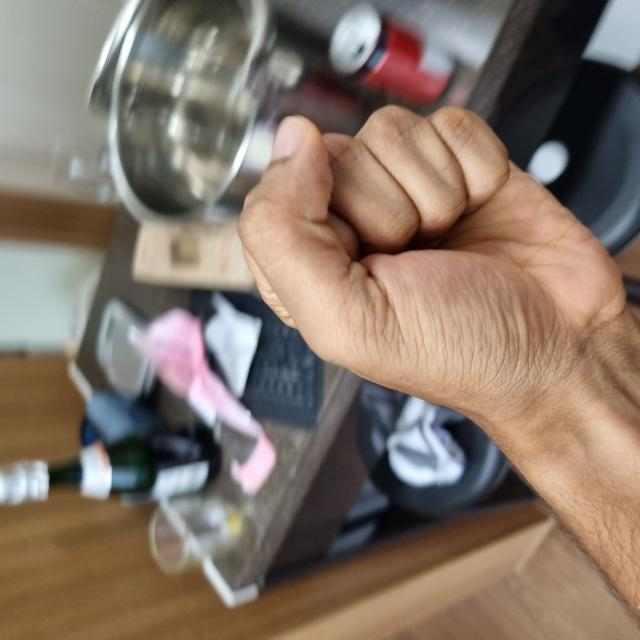Rock: (218, 240, 532, 628)
